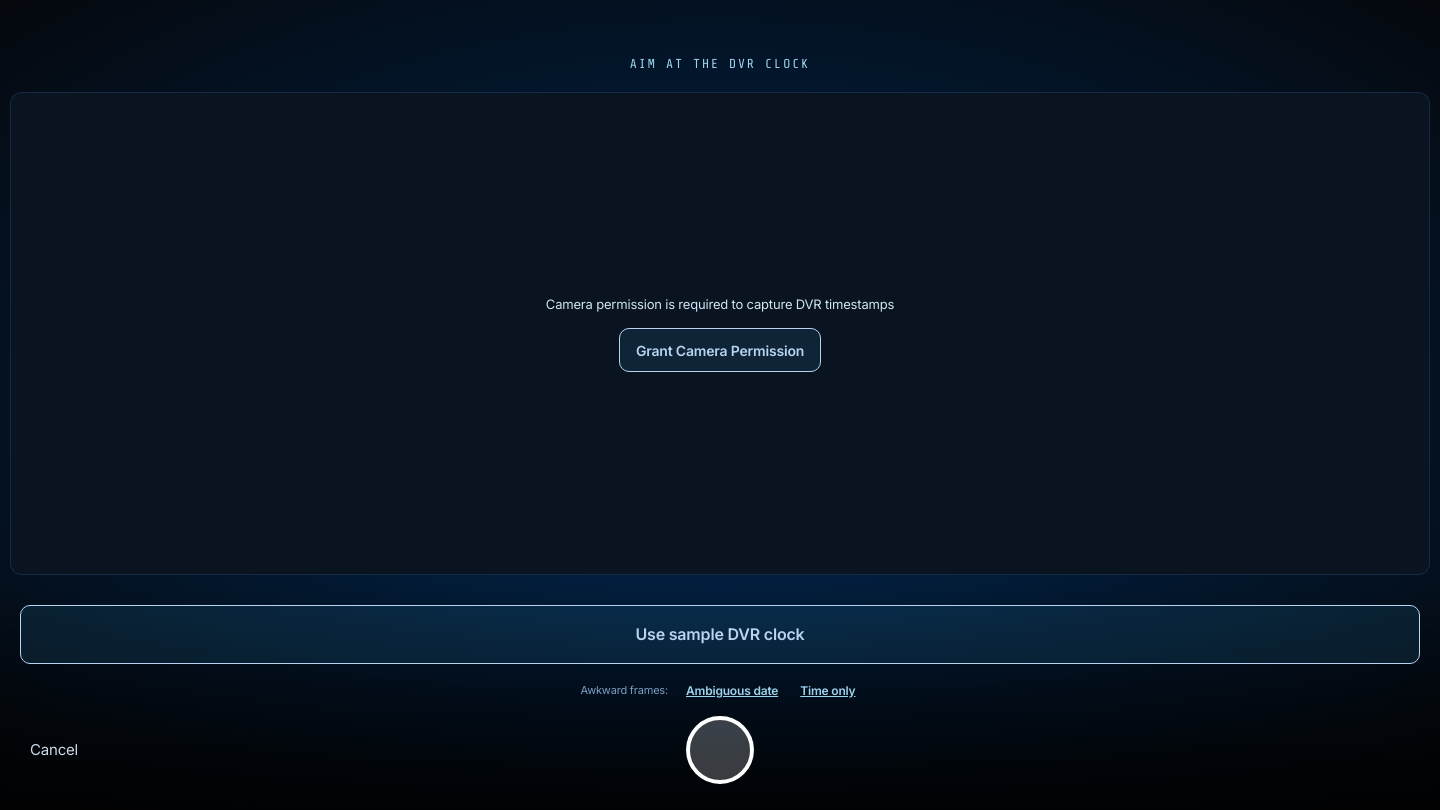
it: permission ladder (phone CameraPermissions, browser-corrected) › a refusal shows the browser-corrected denied copy with a retry — and the samples remain
Step 1. Click the button "Grant Camera Permission" → (720, 350), box [619,328,821,372]
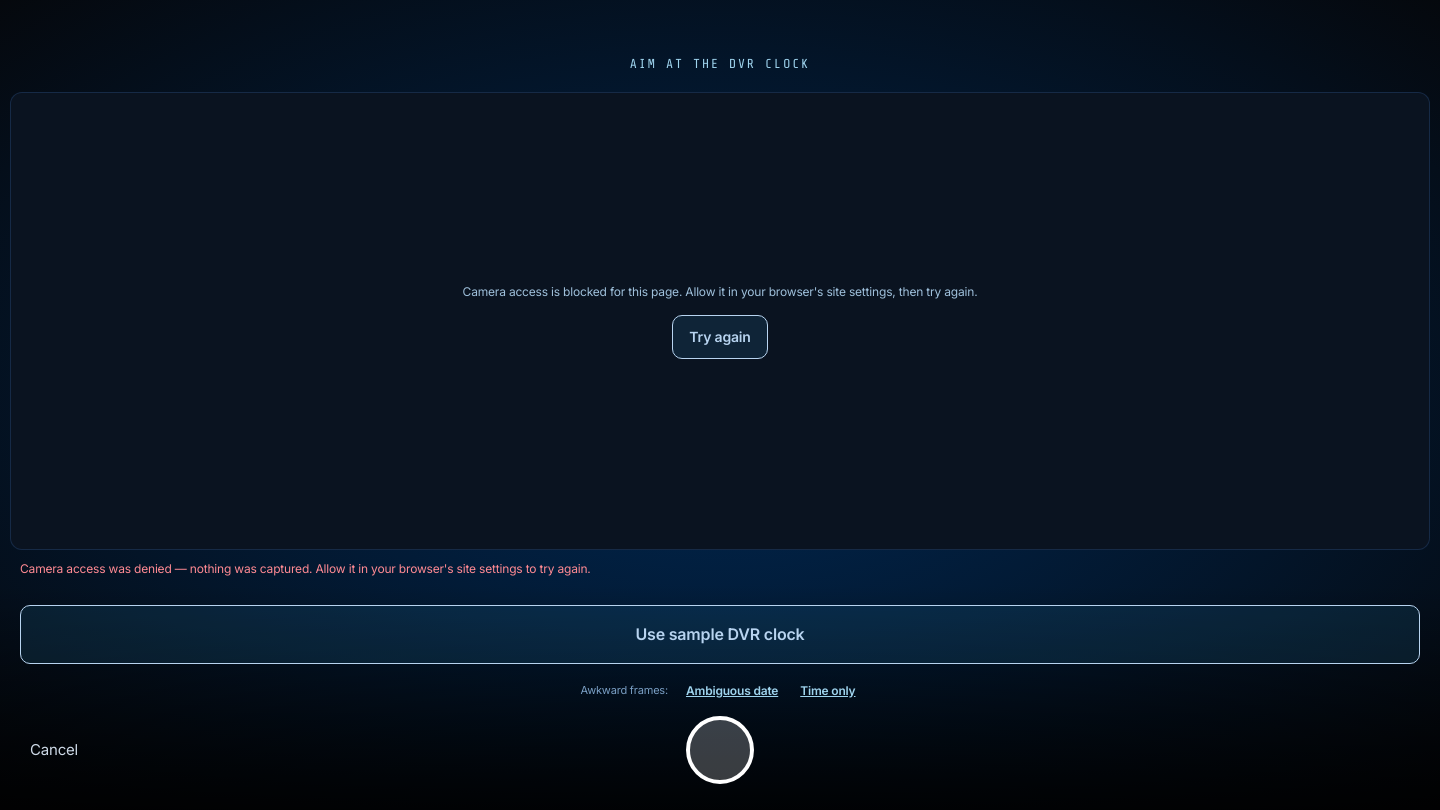
Expected: the button "Use sample DVR clock" is shown, [20,605,1420,664]
Now the text "Camera access is blocked for this page" is shown, box [462,284,977,299]
Now the button "Try again" is shown, box [672,315,768,359]
